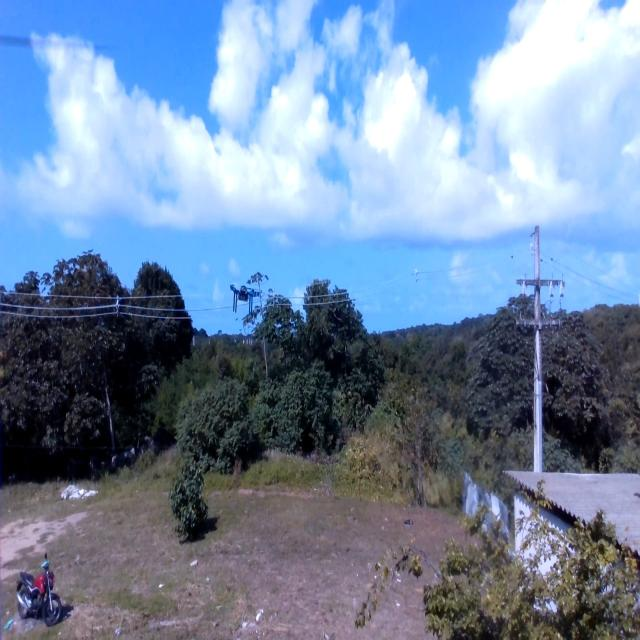-uav-: (221, 272, 266, 330)
